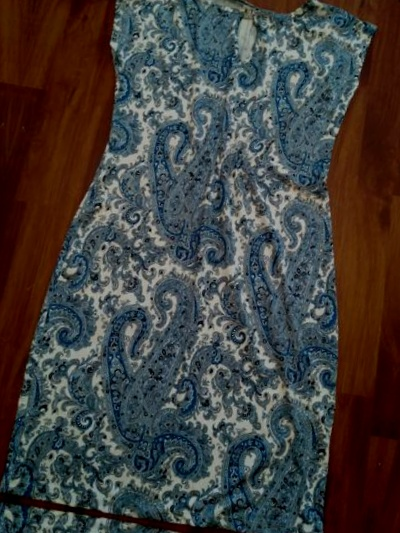Dress: (0, 0, 400, 533), (0, 498, 336, 533), (390, 25, 400, 533)
